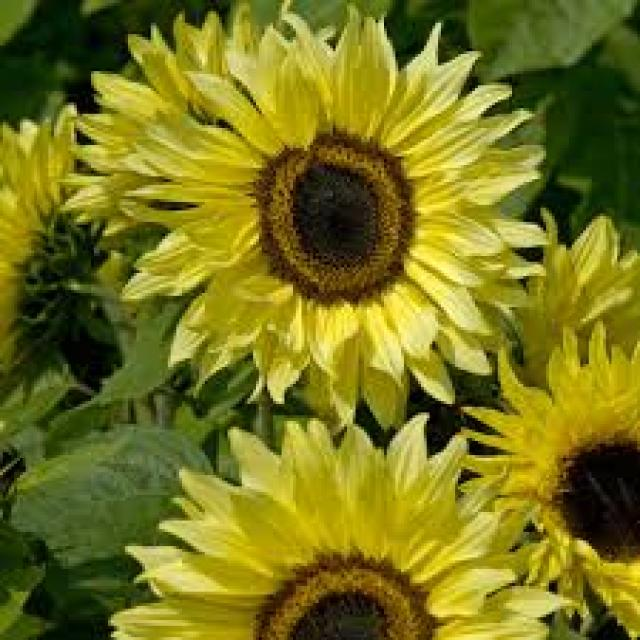sunflower: (120, 4, 565, 438), (99, 411, 588, 640), (44, 0, 363, 324), (450, 310, 637, 640), (0, 87, 117, 409), (502, 203, 640, 470)
